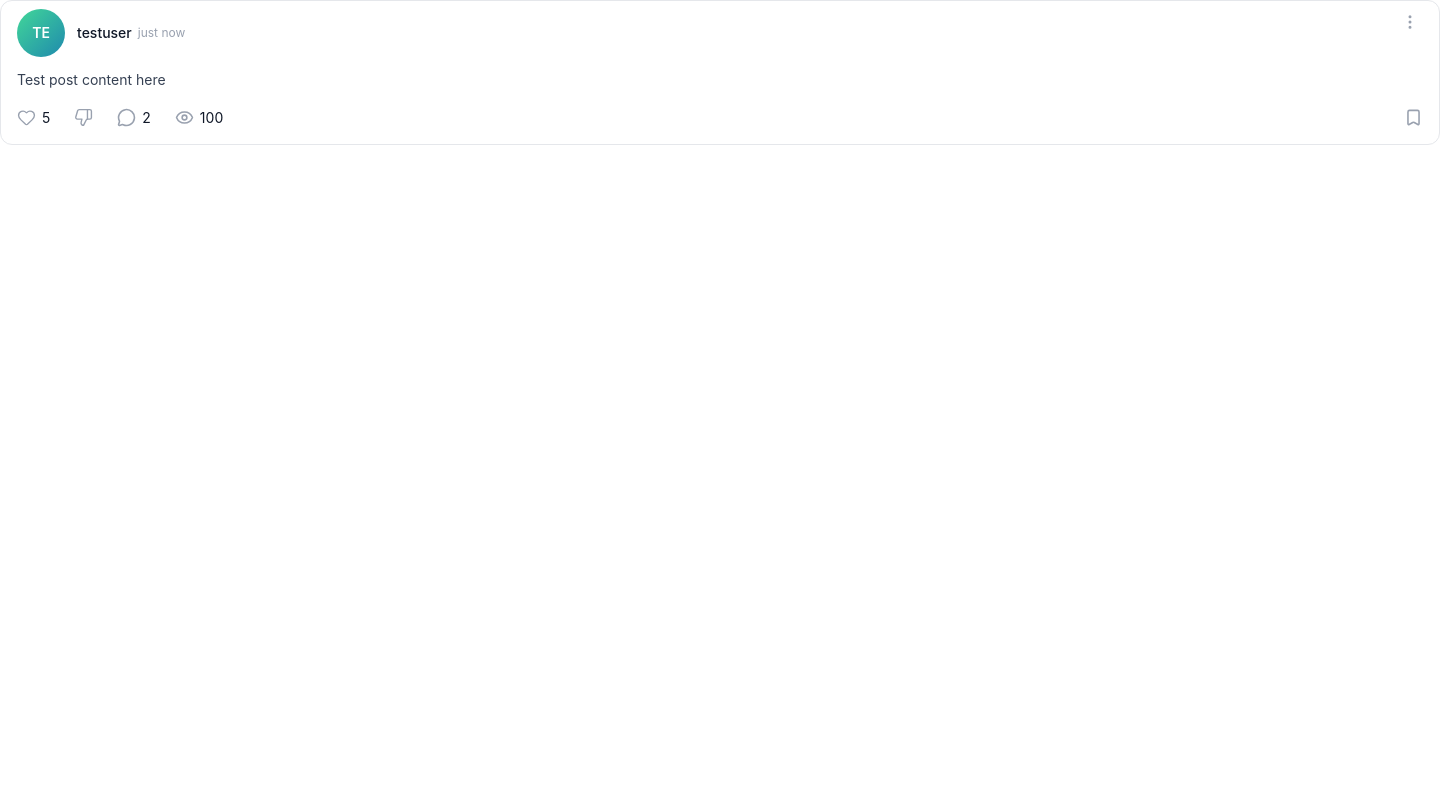
Test: PostCard › clicking comment button opens comment modal
Click the button named "Comments" at (134, 118), box [117, 108, 151, 128]
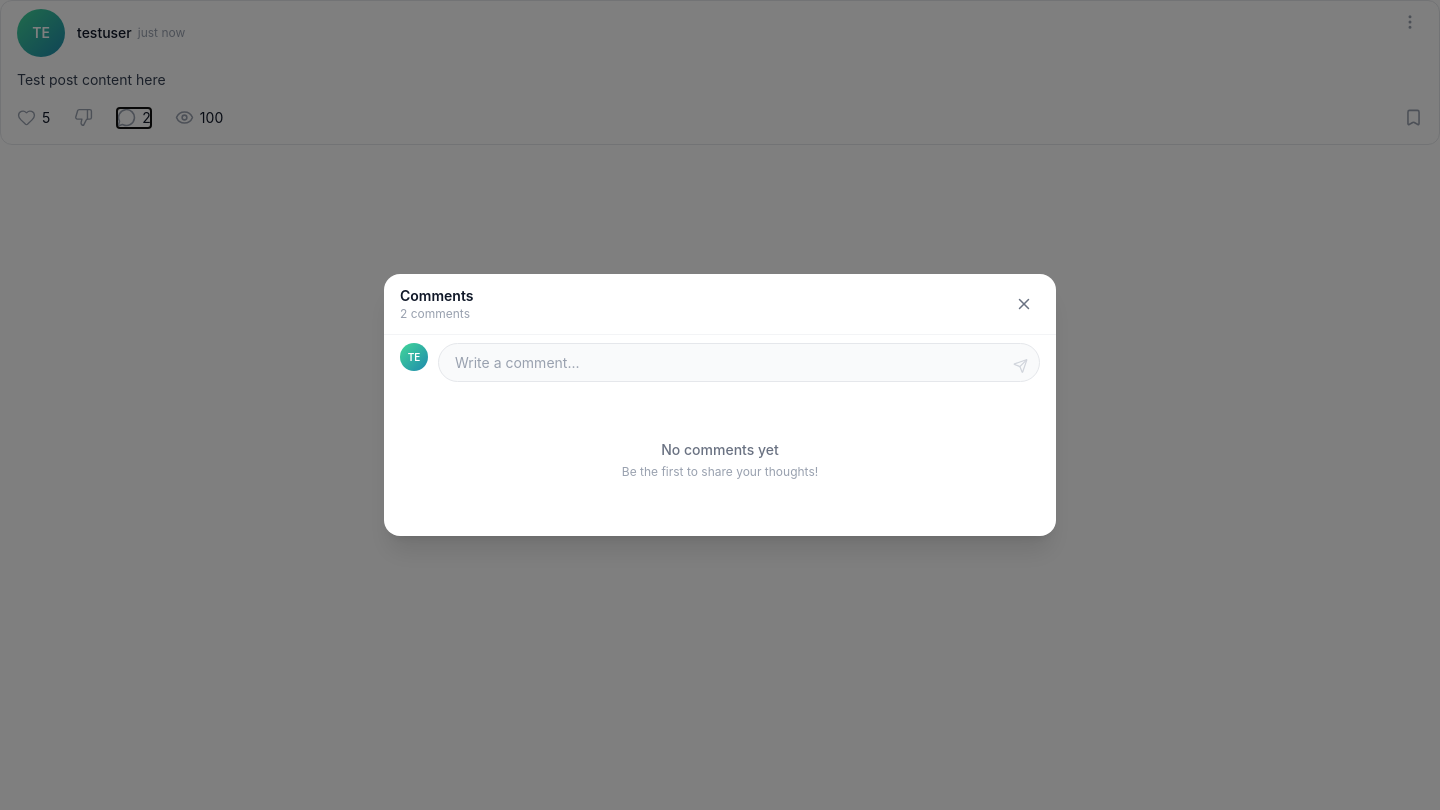
Result: the button named "Close comments" is shown at [1008, 288, 1040, 320]
